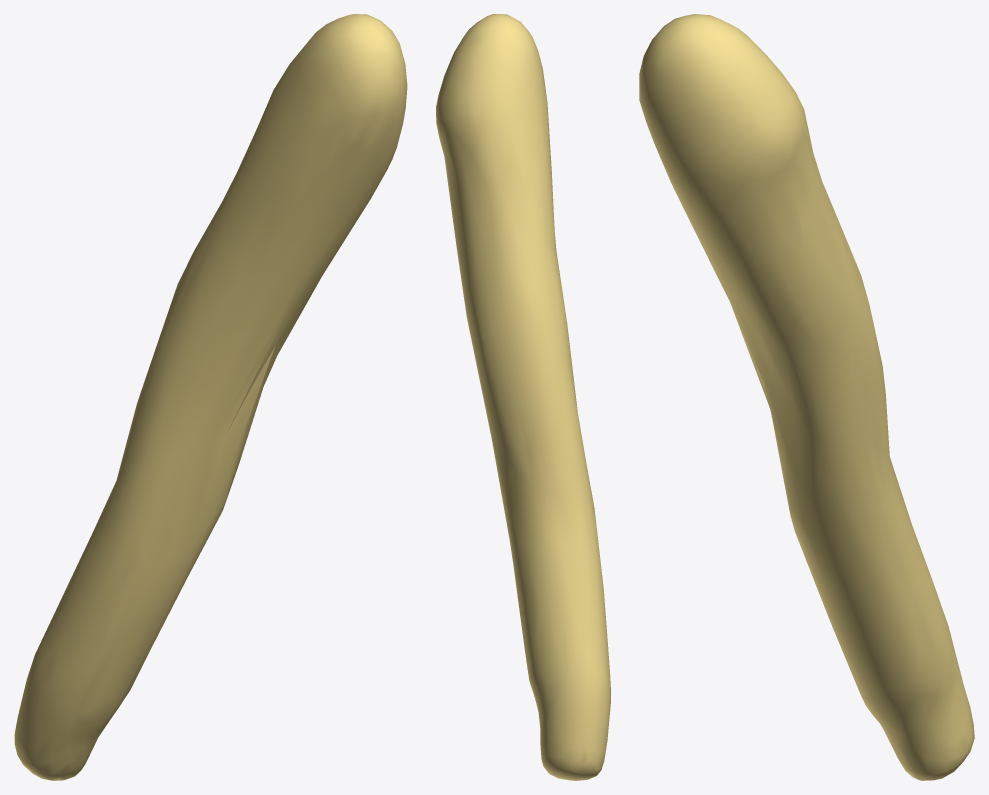
Rendered from fma54587_mm3522.glb.
3 views of the same model, side by side, from view 1: azimuth 30°, elevation 25°; view 2: azimuth 150°, elevation 25°; view 3: azimuth 270°, elevation 25° (orthographic). The views are drawn at different scales.
Parts seen in each view (by area): view 1: FMA54587_MM3522; view 2: FMA54587_MM3522; view 3: FMA54587_MM3522.
Part boxes in pixels (box(x1,y1,x2,y2)): FMA54587_MM3522: box(14, 14, 407, 780); FMA54587_MM3522: box(436, 14, 610, 780); FMA54587_MM3522: box(639, 14, 974, 780).
Bounding box in the file's own units: 0.00458 × 0.0123 × 0.00433.
